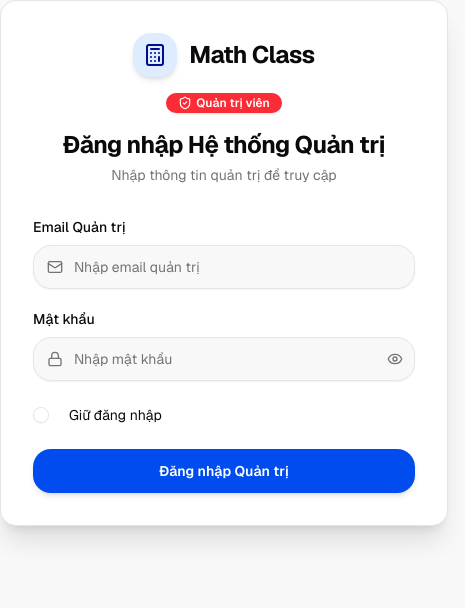
it: AdminLoginForm Component › displays validation errors when submitting empty form
This screenshot has width=465, height=608.
Click the button "Đăng nhập Quản trị": click(224, 471) left=33, top=449, right=415, bottom=493
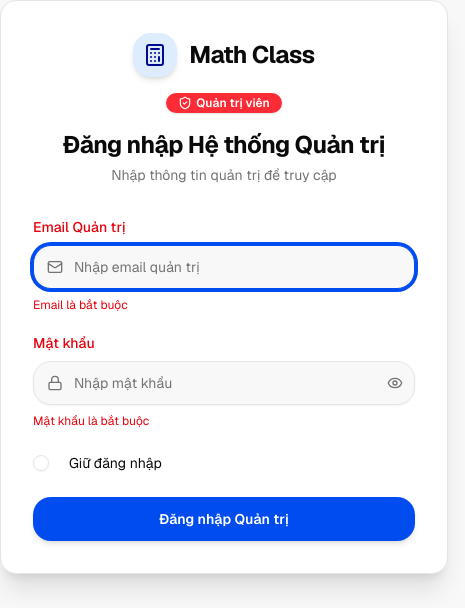
Result: the text "Email là bắt buộc" is shown at left=33, top=297, right=128, bottom=313
Result: the text "Mật khẩu là bắt buộc" is shown at left=33, top=413, right=149, bottom=429
